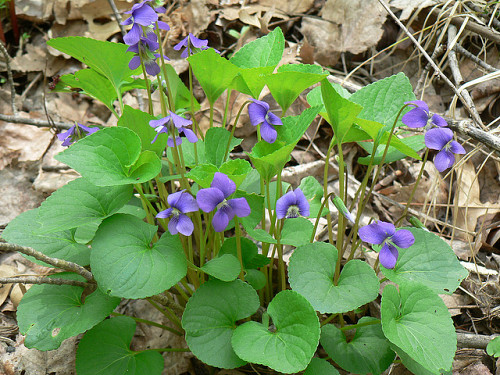violet: (117, 4, 201, 81), (354, 211, 414, 268), (202, 176, 260, 231), (154, 189, 211, 240), (420, 113, 465, 175), (248, 100, 287, 145), (274, 191, 314, 224)
